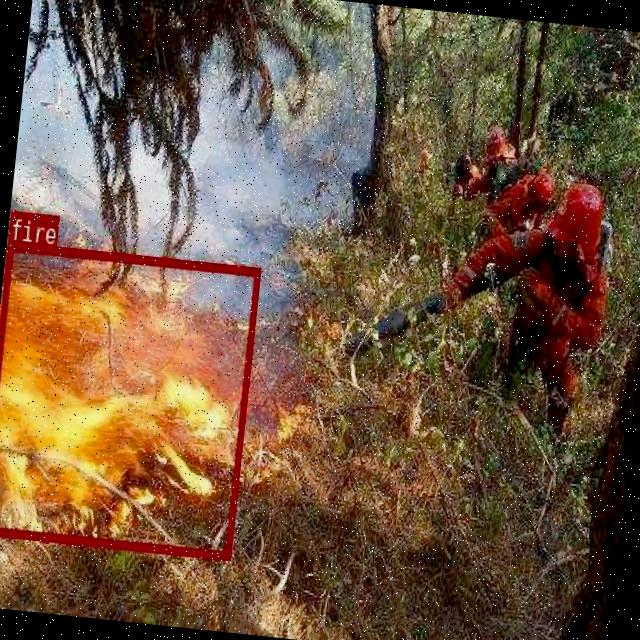fire: (0, 239, 259, 558)
